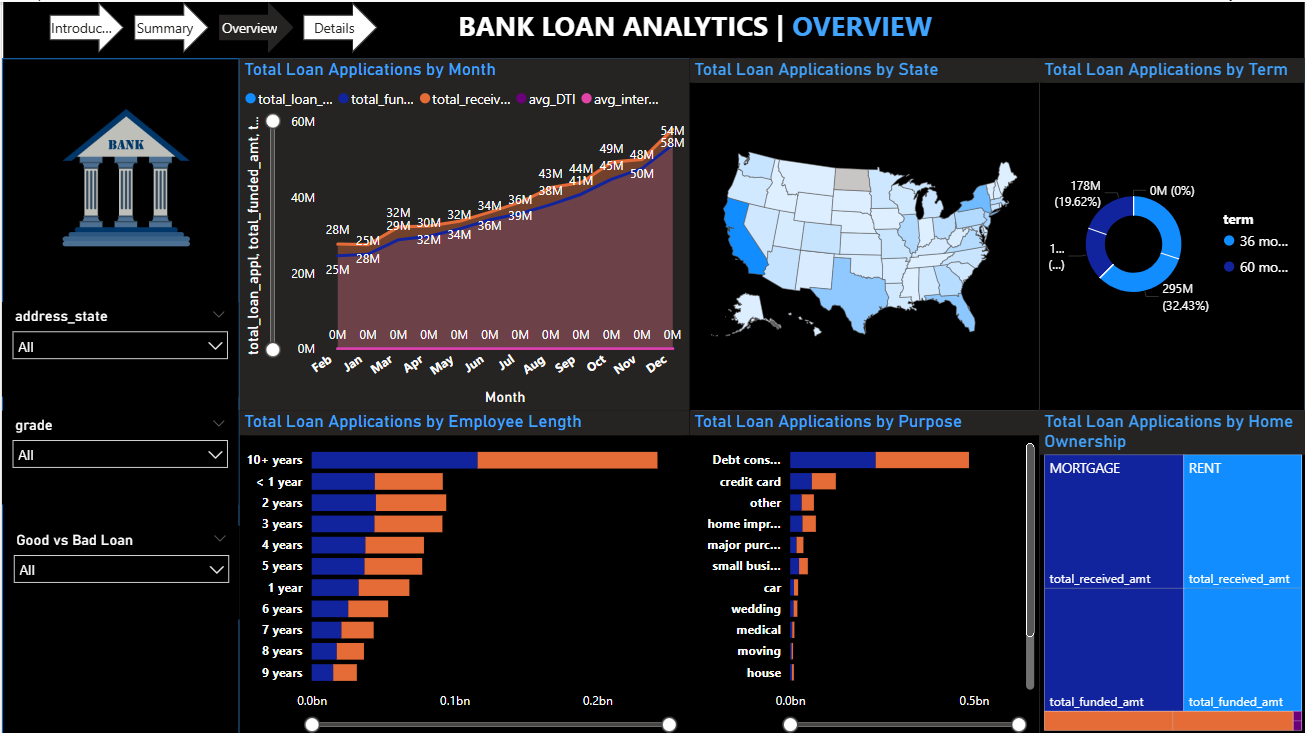

The page's visual inventory and layout, read from the dashboard file:
{"tool":"powerbi","page":{"name":"Overview","canvas":[1280,720],"ordinal":2},"visuals":[{"type":"textbox","box":[1.2,0,1276.6,55.2],"z":0},{"type":"shape","box":[230.5,55.2,1047.3,664.7],"z":1},{"type":"shape","box":[0,55.2,233,664.7],"z":2},{"type":"areaChart","title":"Total Loan Applications by Month","fields":{"Category":["Date Table.Month"],"Y":["table_measures.total_loan_appl","table_measures.total_funded_amt","table_measures.total_received_amt","table_measures.avg_DTI","table_measures.avg_interest_rate"]},"box":[233,55.2,441.5,345.8],"z":3},{"type":"shapeMap","title":"Total Loan Applications by State","fields":{"Category":["financial_loan.address_state"],"Value":["table_measures.total_loan_appl"]},"box":[674.5,55.2,343.4,345.8],"z":4},{"type":"donutChart","title":"Total Loan Applications by Term","fields":{"Category":["financial_loan.term"],"Y":["table_measures.total_loan_appl","table_measures.total_funded_amt","table_measures.total_received_amt","table_measures.avg_DTI","table_measures.avg_interest_rate"]},"box":[1017.8,55.2,260,345.8],"z":5},{"type":"barChart","title":"Total Loan Applications by Employee Length","fields":{"Category":["financial_loan.emp_length"],"Y":["table_measures.total_loan_appl","table_measures.total_funded_amt","table_measures.total_received_amt","table_measures.avg_DTI","table_measures.avg_interest_rate"]},"box":[233,401,441.5,318.8],"z":6},{"type":"barChart","title":"Total Loan Applications by Purpose","fields":{"Category":["financial_loan.purpose"],"Y":["table_measures.total_loan_appl","table_measures.total_funded_amt","table_measures.total_received_amt","table_measures.avg_DTI","table_measures.avg_interest_rate"]},"box":[674.5,401,343.4,318.8],"z":7},{"type":"treemap","title":"Total Loan Applications by Home Ownership","fields":{"Values":["table_measures.total_loan_appl","table_measures.total_funded_amt","table_measures.total_received_amt","table_measures.avg_DTI","table_measures.avg_interest_rate"],"Group":["financial_loan.home_ownership"]},"box":[1017.8,401,262.4,318.8],"z":8},{"type":"image","box":[11,77.3,222,190.1],"z":9},{"type":"slicer","fields":{"Values":["financial_loan.address_state"]},"box":[0,294.3,231.8,93.2],"z":10},{"type":"slicer","fields":{"Values":["financial_loan.grade"]},"box":[0,401,231.8,92],"z":11},{"type":"slicer","fields":{"Values":["financial_loan.Good vs Bad Loan"]},"box":[1.2,513.8,231.8,92],"z":12},{"type":"pageNavigator","box":[46.6,0,322.5,50.3],"z":13}]}

Visuals, with their boxes in screenshot pixels (x1, y1, x2, y2), scaled from the page's 1280x720 canvas onto the 1305x733 screenshot:
textbox: (x1=1, y1=0, x2=1303, y2=56)
shape: (x1=235, y1=56, x2=1303, y2=732)
shape: (x1=0, y1=56, x2=238, y2=732)
"Total Loan Applications by Month" areaChart: (x1=238, y1=56, x2=688, y2=408)
"Total Loan Applications by State" shapeMap: (x1=688, y1=56, x2=1038, y2=408)
"Total Loan Applications by Term" donutChart: (x1=1038, y1=56, x2=1303, y2=408)
"Total Loan Applications by Employee Length" barChart: (x1=238, y1=408, x2=688, y2=732)
"Total Loan Applications by Purpose" barChart: (x1=688, y1=408, x2=1038, y2=732)
"Total Loan Applications by Home Ownership" treemap: (x1=1038, y1=408, x2=1304, y2=732)
image: (x1=11, y1=79, x2=238, y2=272)
slicer - financial_loan.address_state: (x1=0, y1=300, x2=236, y2=394)
slicer - financial_loan.grade: (x1=0, y1=408, x2=236, y2=502)
slicer - financial_loan.Good vs Bad Loan: (x1=1, y1=523, x2=238, y2=617)
pageNavigator: (x1=48, y1=0, x2=376, y2=51)
